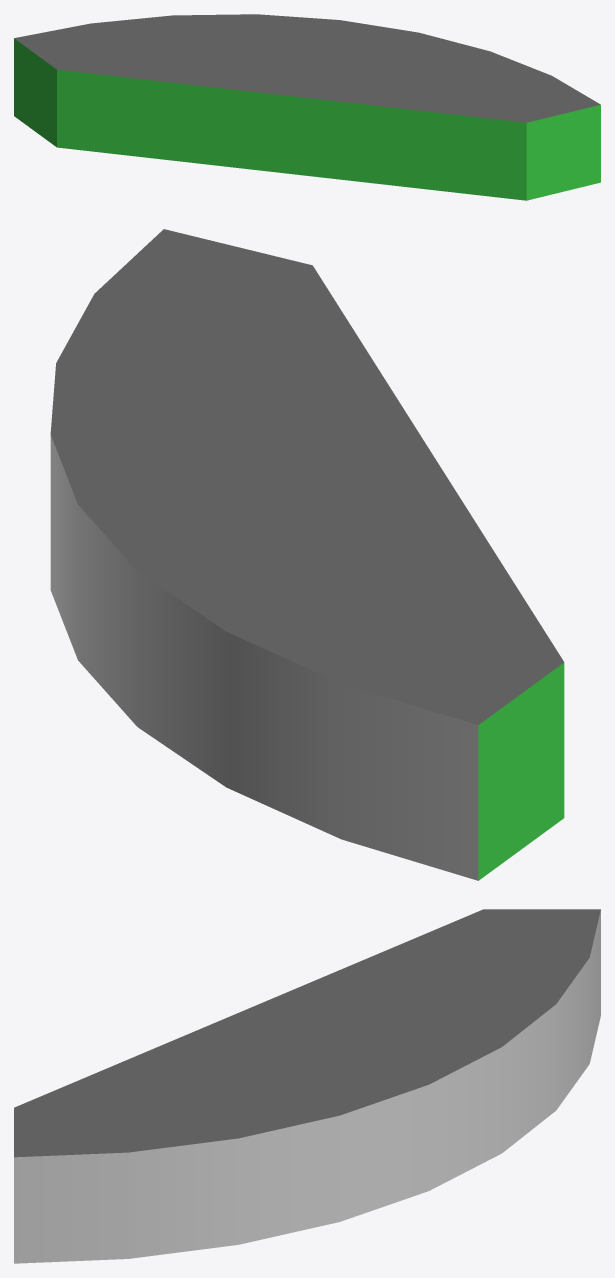
File: FloorBasic00_2.5RoundCornere.fbx
The picture shows the model from 3 angles, top to bottom: view 1: azimuth 30°, elevation 25°; view 2: azimuth 150°, elevation 25°; view 3: azimuth 270°, elevation 25°; orthographic projection. The views are drawn at different scales.
Visible parts, largest first — view 1: FloorBasic00_2.5RoundCornere; view 2: FloorBasic00_2.5RoundCornere; view 3: FloorBasic00_2.5RoundCornere.
Part boxes in pixels (left/top/right/bottom): FloorBasic00_2.5RoundCornere: left=14, top=14, right=600, bottom=200; FloorBasic00_2.5RoundCornere: left=50, top=229, right=564, bottom=880; FloorBasic00_2.5RoundCornere: left=14, top=909, right=600, bottom=1263.
Bounding box in the file's own units: 250 × 50 × 250.
